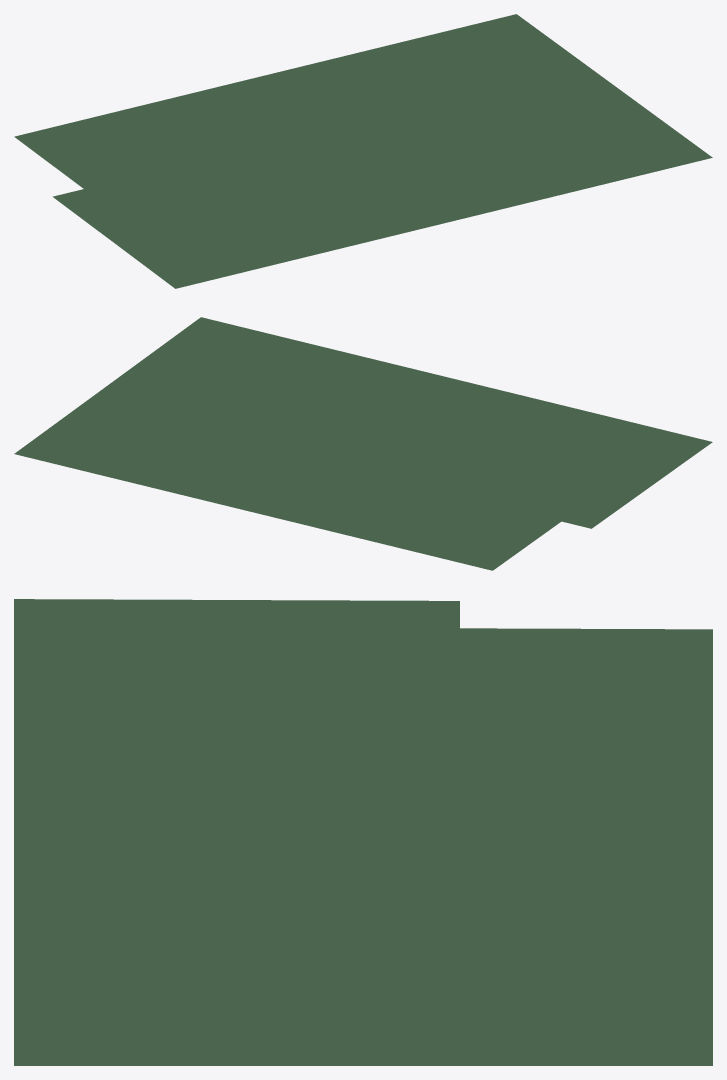
Rendered from int-floor3.glb.
3 views of the same model, one above another, from view 1: azimuth 30°, elevation 25°; view 2: azimuth 150°, elevation 25°; view 3: azimuth 270°, elevation 25° (orthographic). The views are drawn at different scales.
Parts seen in each view (by area): view 1: floor 3-int; view 2: floor 3-int; view 3: floor 3-int.
Part boxes in pixels (x1,y1,x2,y2): floor 3-int: [14, 14, 712, 288]; floor 3-int: [14, 317, 712, 570]; floor 3-int: [14, 599, 712, 1065].
Bounding box in the file's own units: 3.49 × 0 × 2.21.
